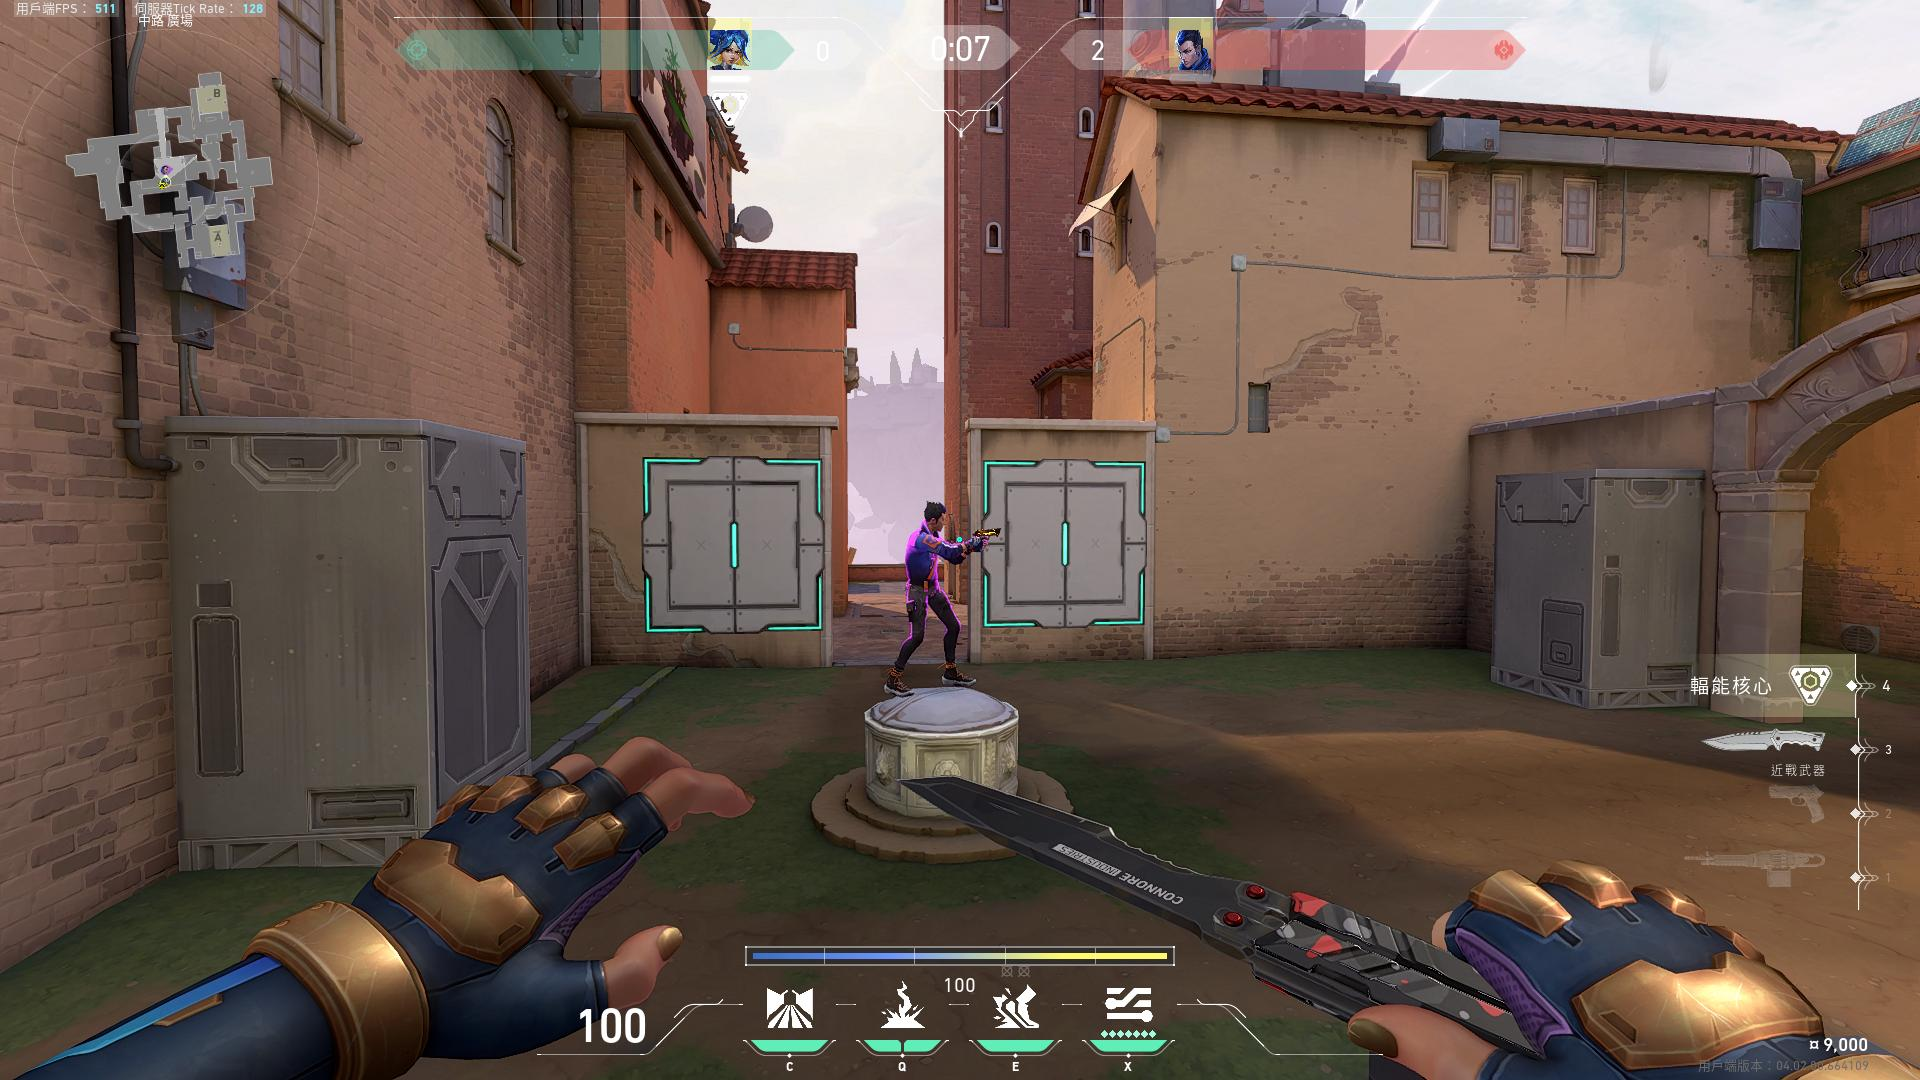enemyBody: (909, 535, 939, 584)
enemyHead: (924, 508, 943, 529)
